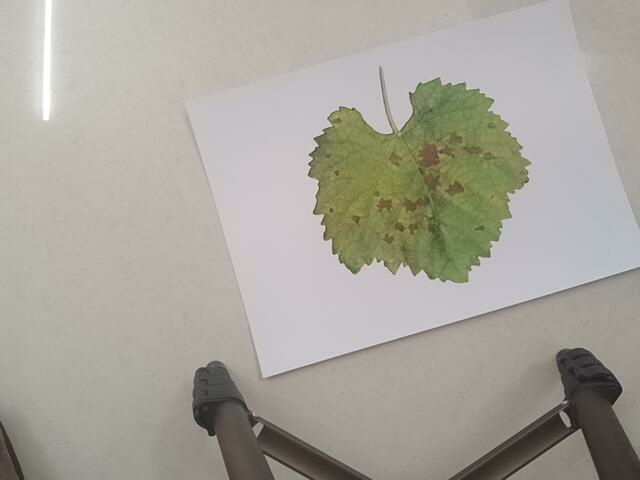Grape_Leaf_Vine_Disease: (302, 62, 554, 286)
